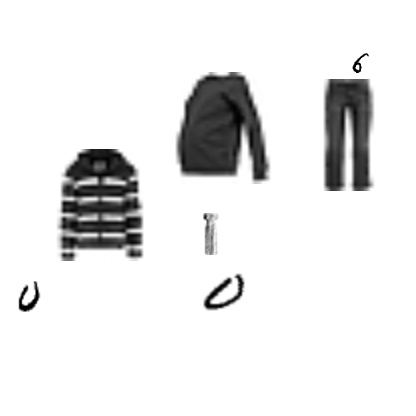0: (196, 266, 252, 322), (7, 277, 49, 319)
6: (344, 50, 372, 78)
Coat: (42, 149, 154, 261)
Dress: (190, 213, 232, 255)
Pullover: (165, 72, 277, 184)
Trouser: (289, 79, 401, 191)
